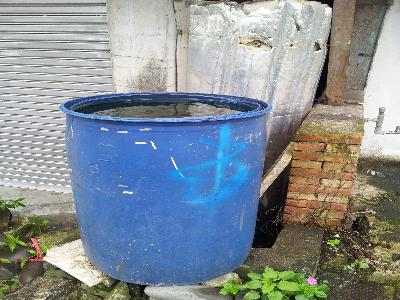bucket: (58, 92, 274, 288)
